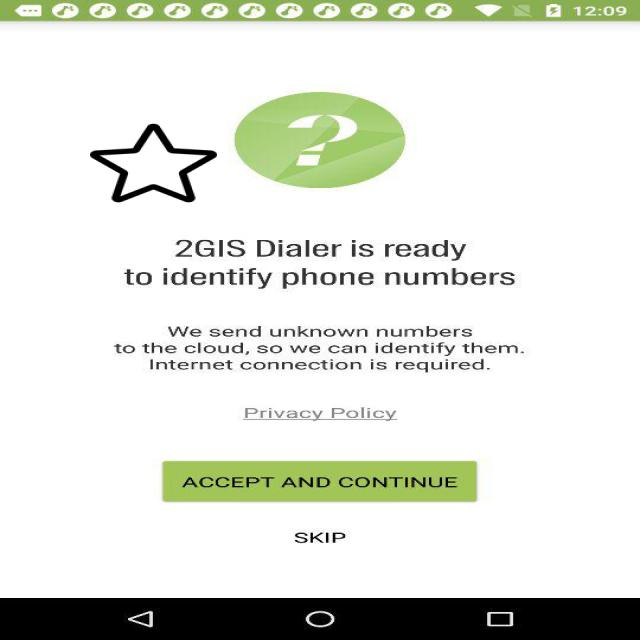forced continuity: (90, 122, 217, 204)
